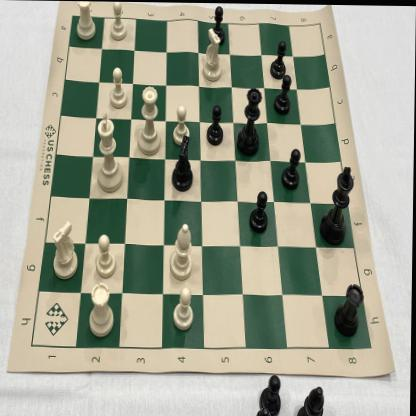black-king: (319, 159, 355, 246)
black-knight: (169, 134, 197, 192)
black-pawn: (247, 185, 273, 236), (204, 101, 226, 149), (280, 146, 302, 193), (271, 73, 294, 115), (268, 37, 288, 80), (208, 5, 228, 46)
black-queen: (235, 83, 265, 158)
black-rook: (332, 277, 366, 339)
white-bishop: (169, 222, 195, 281)
white-king: (93, 110, 126, 194)
white-knight: (49, 220, 83, 281), (201, 25, 225, 85)
white-pawn: (170, 284, 197, 333), (93, 232, 119, 281), (107, 65, 130, 111), (107, 1, 131, 44), (170, 102, 192, 147)
white-queen: (137, 82, 164, 157)
white-rook: (89, 281, 117, 339), (73, 1, 99, 43)
